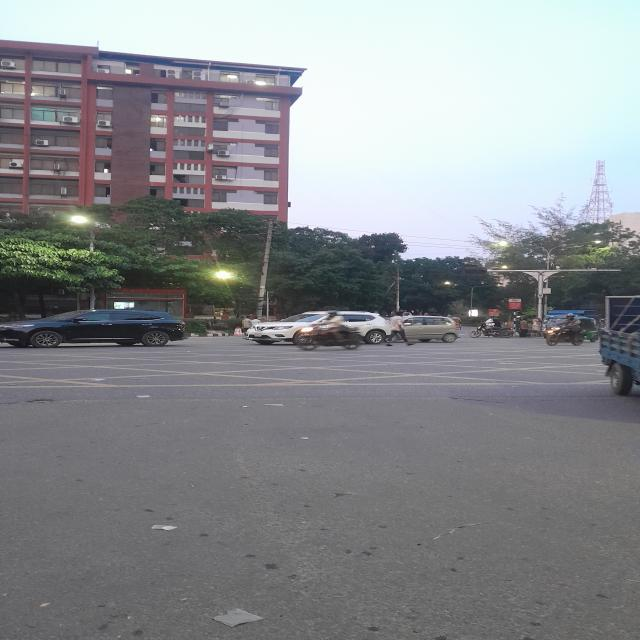person: (386, 312, 412, 346)
